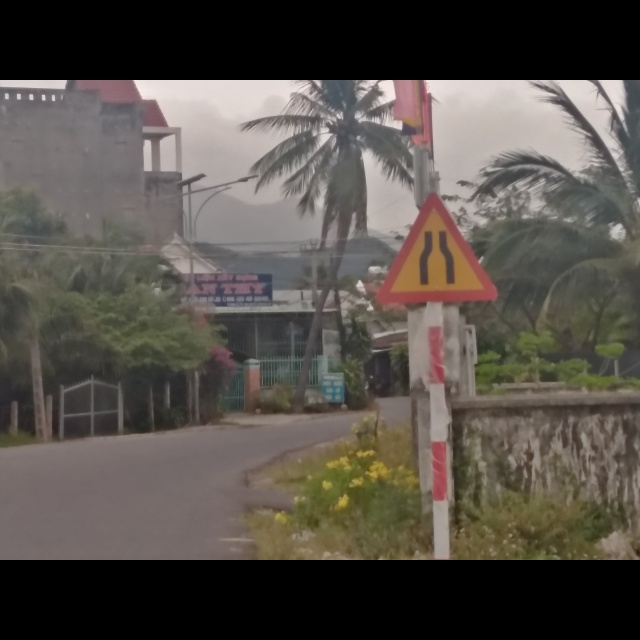Đường bị hẹp cả hai bên: (377, 193, 494, 304)
